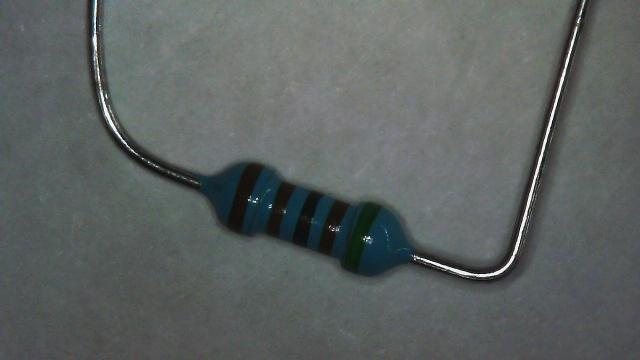black: (294, 190, 322, 246)
brown: (228, 164, 265, 233), (267, 181, 296, 237), (320, 200, 350, 254)
green: (344, 202, 382, 272)
resistor: (194, 144, 418, 297)
